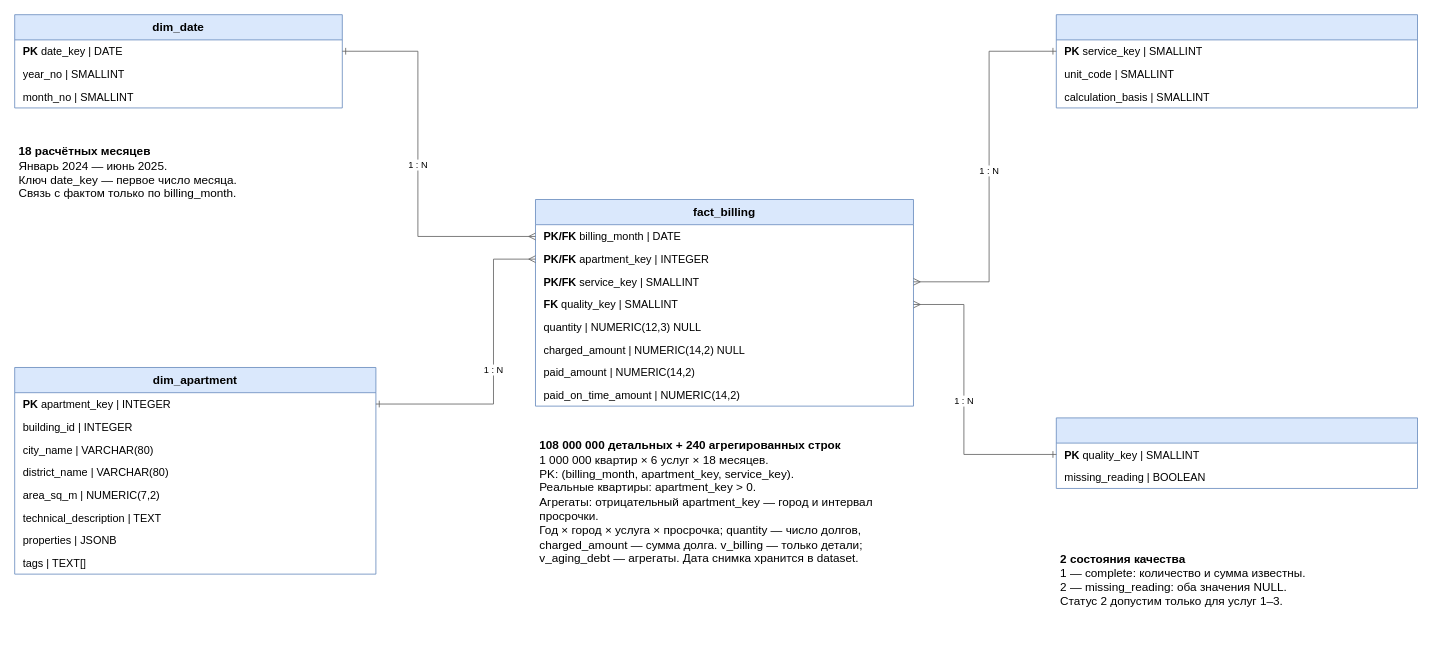
Image size: 1432x651. Some labels were removed from this diagram. Here are the shapes that lost their labels. From the top down, the box of each, then its label:
(1055, 14, 1418, 108): dim_service
(1055, 417, 1418, 488): dim_quality
